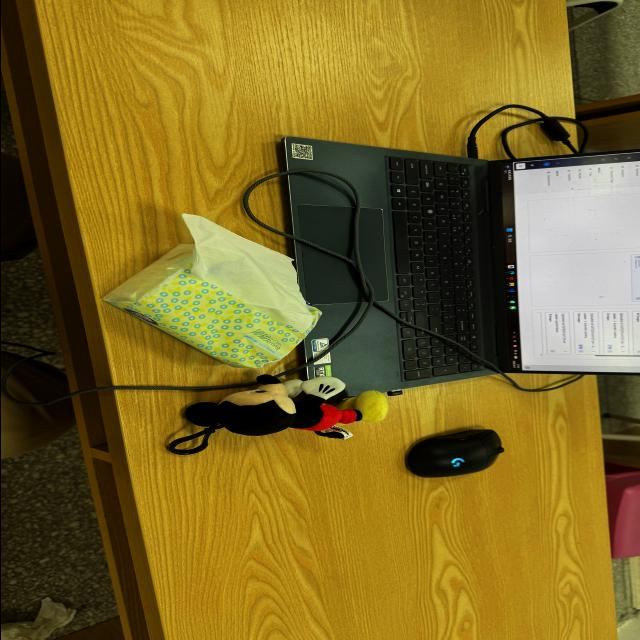mickey: (168, 375, 360, 454)
tissue: (103, 215, 319, 368), (1, 597, 75, 639)
